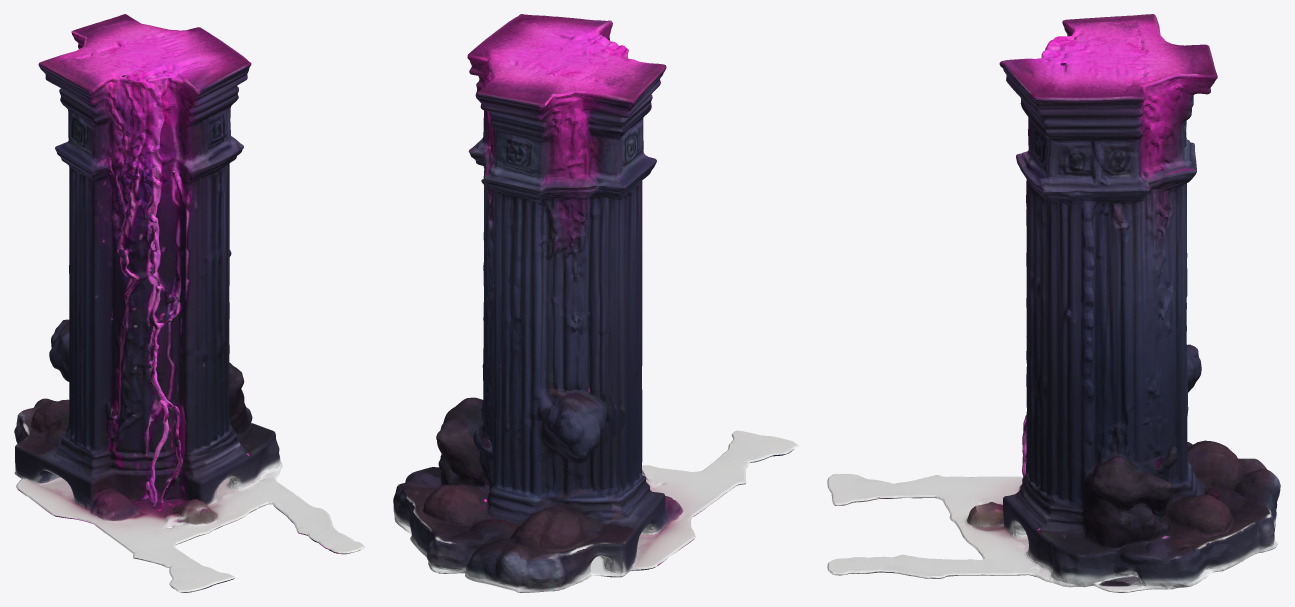
File: weathered-monolith-pillar-generated-2026-04-19T23-51-13-313Z.glb
3 views of the same model, side by side, from view 1: azimuth 30°, elevation 25°; view 2: azimuth 150°, elevation 25°; view 3: azimuth 270°, elevation 25° (orthographic). The views are drawn at different scales.
Visible parts, largest first — view 1: temp_mesh.ply; view 2: temp_mesh.ply; view 3: temp_mesh.ply.
Part boxes in pixels (left/top/right/bottom): temp_mesh.ply: left=14, top=14, right=364, bottom=592; temp_mesh.ply: left=393, top=14, right=798, bottom=592; temp_mesh.ply: left=827, top=14, right=1280, bottom=592.
Size of the model in its own units: 1.14 by 1.97 by 1.73.
Materials: 1 (1 with a texture image).
